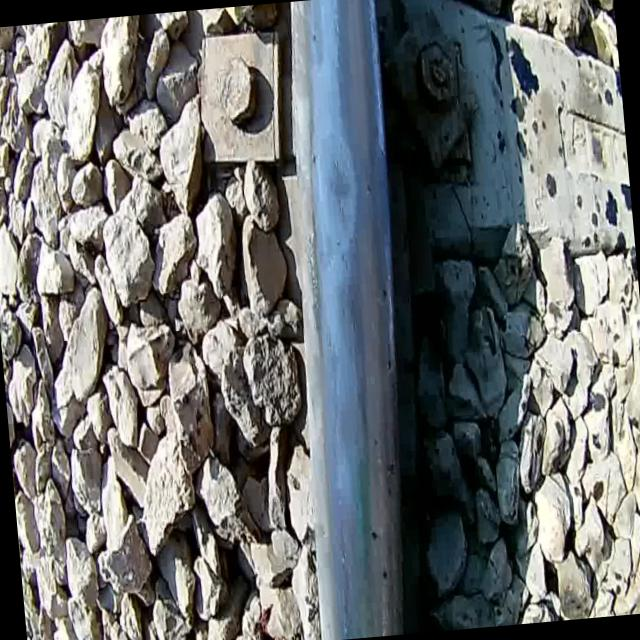Spallings: (315, 0, 431, 637)
Squats: (308, 118, 366, 268)
